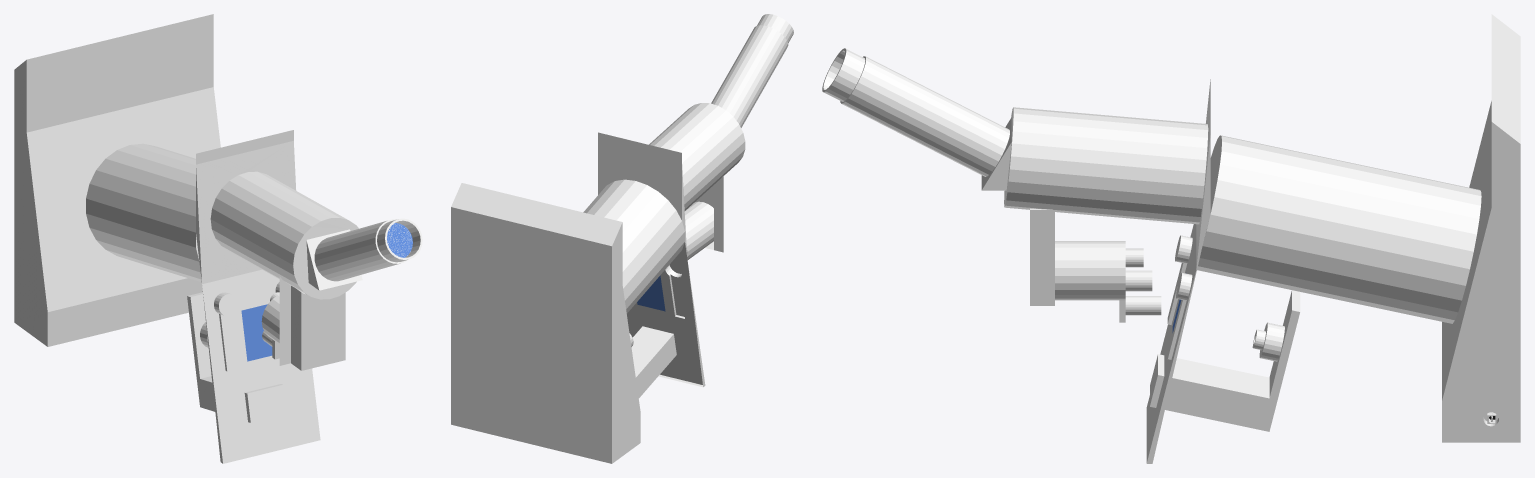
The picture shows the model from 3 angles, left to right: view 1: azimuth 30°, elevation 25°; view 2: azimuth 150°, elevation 25°; view 3: azimuth 270°, elevation 25°; orthographic projection. The views are drawn at different scales.
Parts seen in each view (by area): view 1: detailed model microscope; view 2: detailed model microscope; view 3: detailed model microscope.
Boxes of the visible parts, x1=… form: detailed model microscope: x1=14, y1=14, x2=422, y2=463; detailed model microscope: x1=451, y1=14, x2=793, y2=463; detailed model microscope: x1=822, y1=14, x2=1520, y2=463.
Size of the model in its own units: 107 by 178 by 294.
